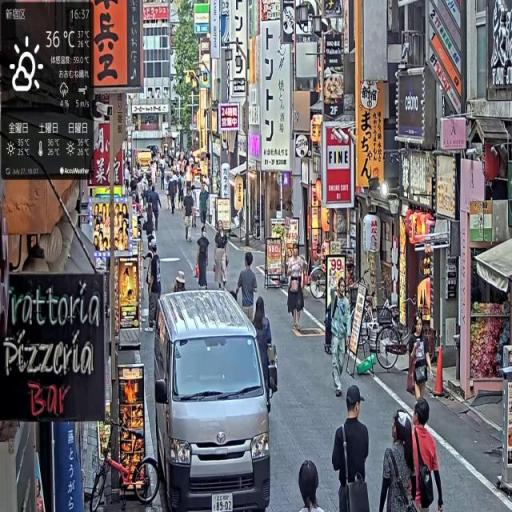person: (332, 384, 372, 512), (409, 400, 443, 512), (384, 405, 418, 512), (329, 277, 354, 400), (407, 313, 432, 411), (254, 296, 275, 412), (287, 245, 308, 331), (234, 252, 259, 316), (297, 459, 327, 512), (149, 241, 162, 335), (215, 221, 230, 295), (196, 223, 211, 291), (183, 187, 197, 245), (199, 182, 210, 235), (145, 204, 158, 244), (152, 187, 163, 232), (171, 268, 188, 295), (169, 176, 176, 217), (138, 177, 146, 210), (143, 173, 150, 208), (179, 172, 185, 211), (132, 184, 141, 208), (146, 183, 153, 212), (125, 164, 131, 194), (166, 176, 171, 211), (186, 166, 192, 195), (152, 163, 158, 189), (131, 176, 136, 192)
